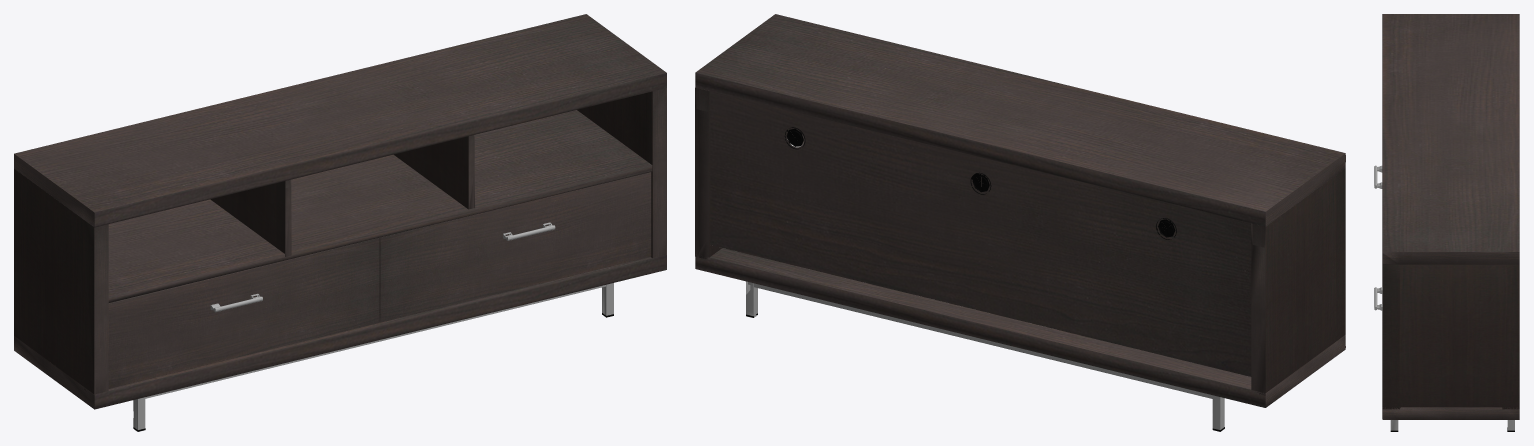
Rendered from asset.gltf.
The picture shows the model from 3 angles, left to right: view 1: azimuth 30°, elevation 25°; view 2: azimuth 150°, elevation 25°; view 3: azimuth 270°, elevation 25°; orthographic projection. The views are drawn at different scales.
Visible parts, largest first — view 1: 3DGeom-5, 3DGeom-1; view 2: 3DGeom-5, 3DGeom-1, 3DGeom-2; view 3: 3DGeom-5, 3DGeom-1.
Boxes of the visible parts, left/top/right/bottom form: 3DGeom-5: left=14, top=14, right=666, bottom=409; 3DGeom-1: left=133, top=222, right=613, bottom=429; 3DGeom-5: left=695, top=14, right=1345, bottom=407; 3DGeom-1: left=746, top=281, right=1224, bottom=429; 3DGeom-2: left=746, top=127, right=1224, bottom=431; 3DGeom-5: left=1382, top=14, right=1519, bottom=419; 3DGeom-1: left=1374, top=165, right=1514, bottom=430.
Bounding box in the file's own units: 1.52 × 0.5969 × 0.3938.
Materials: 22 (20 with a texture image).
